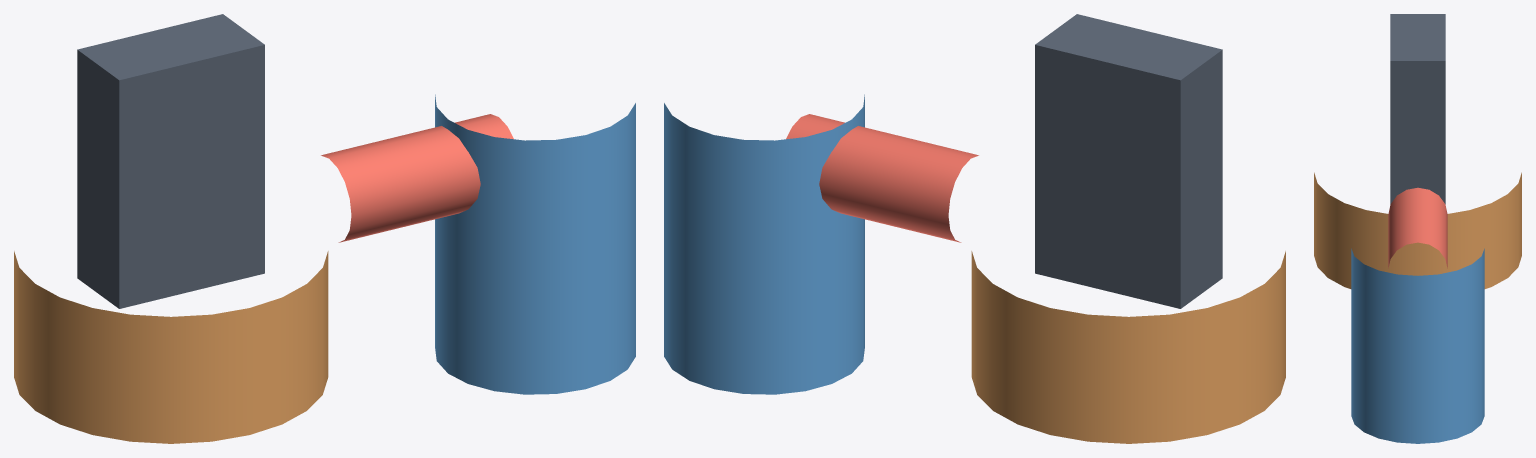
The model's file is dc_dc_buck_boost_converters.glb.
3 renders of one model, left to right at view 1: azimuth 30°, elevation 25°; view 2: azimuth 150°, elevation 25°; view 3: azimuth 270°, elevation 25°, orthographic. The views are drawn at different scales.
Visible parts, largest first — view 1: MOSFETSwitchingTransistorTO220, LowESRSmoothingCapacitor, BuckBoostPowerToroidInductor, FastRecoverySchottkyDiode; view 2: MOSFETSwitchingTransistorTO220, LowESRSmoothingCapacitor, BuckBoostPowerToroidInductor, FastRecoverySchottkyDiode; view 3: LowESRSmoothingCapacitor, BuckBoostPowerToroidInductor, MOSFETSwitchingTransistorTO220, FastRecoverySchottkyDiode.
Boxes of the visible parts, <box> form: MOSFETSwitchingTransistorTO220: <box>77,14,264,308</box>; LowESRSmoothingCapacitor: <box>435,94,635,394</box>; BuckBoostPowerToroidInductor: <box>14,251,328,443</box>; FastRecoverySchottkyDiode: <box>321,114,513,242</box>; MOSFETSwitchingTransistorTO220: <box>1035,14,1222,308</box>; LowESRSmoothingCapacitor: <box>664,94,864,394</box>; BuckBoostPowerToroidInductor: <box>971,251,1285,443</box>; FastRecoverySchottkyDiode: <box>786,114,978,242</box>; LowESRSmoothingCapacitor: <box>1351,248,1484,443</box>; BuckBoostPowerToroidInductor: <box>1314,172,1521,288</box>; MOSFETSwitchingTransistorTO220: <box>1390,14,1445,204</box>; FastRecoverySchottkyDiode: <box>1388,187,1447,268</box>.
Bounding box in the file's own units: 1.21 × 0.775 × 0.56.
